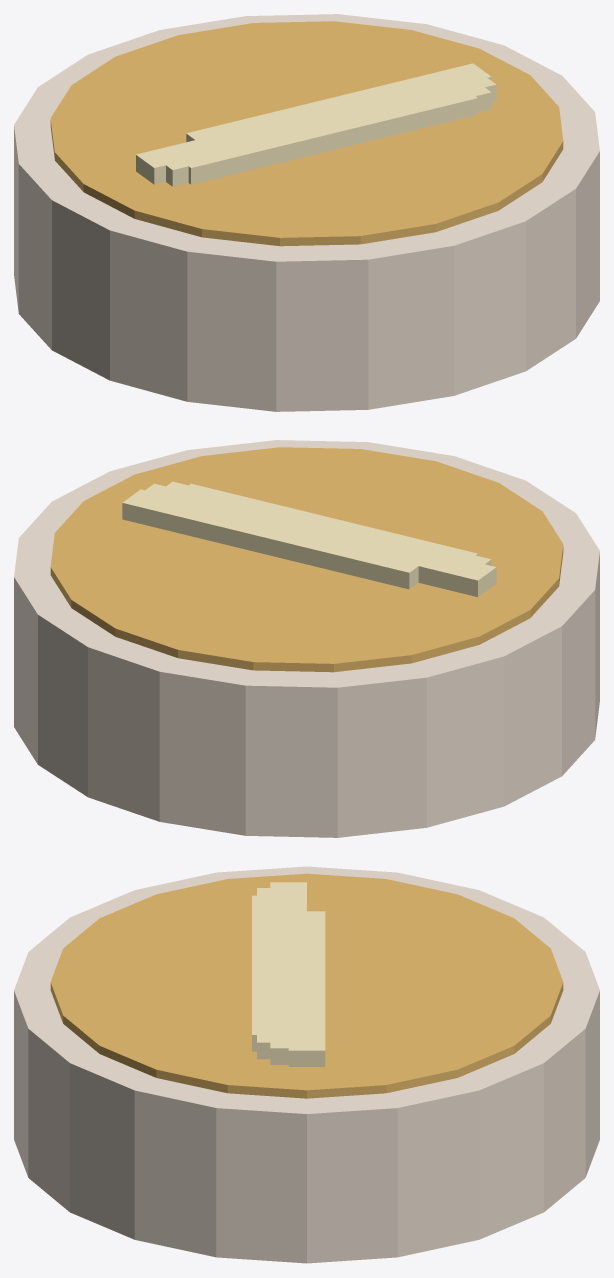
The model's file is noodle-bowl.glb.
3 views of the same model, one above another, from view 1: azimuth 30°, elevation 25°; view 2: azimuth 150°, elevation 25°; view 3: azimuth 270°, elevation 25° (orthographic).
Bounding box in the file's own units: 0.32 × 0.105 × 0.32.
